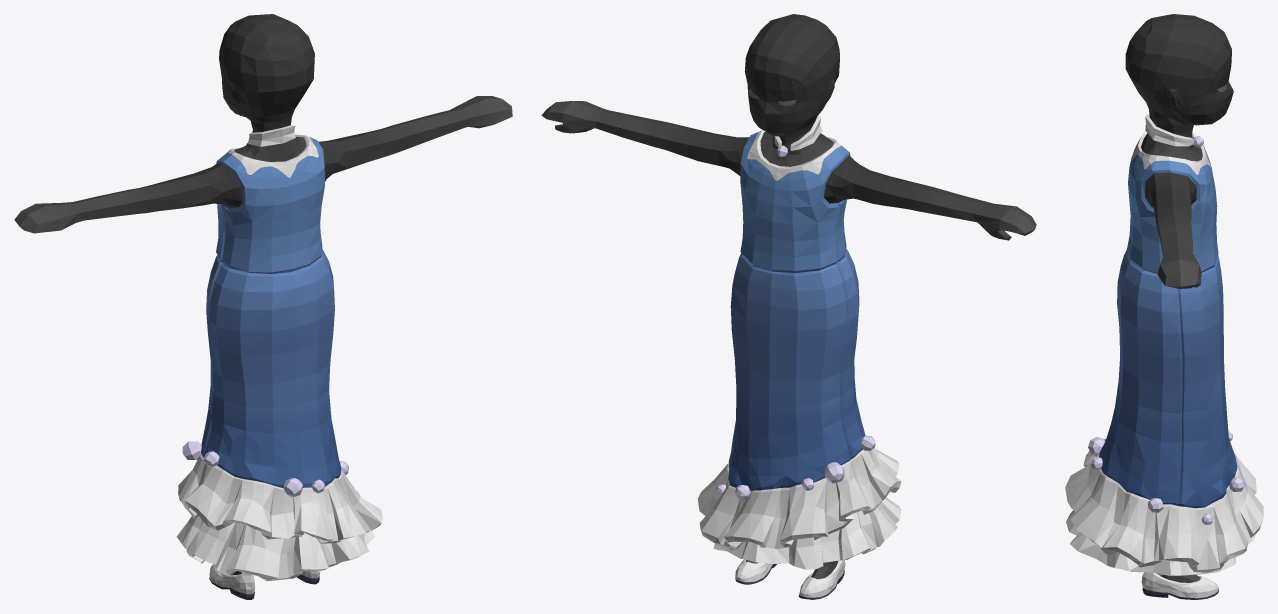
Rendered from CharSkyKid_Body_AP32Gown.glb.
The picture shows the model from 3 angles, left to right: view 1: azimuth 30°, elevation 25°; view 2: azimuth 150°, elevation 25°; view 3: azimuth 270°, elevation 25°; orthographic projection.
Parts seen in each view (by area): view 1: CharSkyKid_Body_AP32Gown; view 2: CharSkyKid_Body_AP32Gown; view 3: CharSkyKid_Body_AP32Gown.
Part boxes in pixels (left/top/right/bottom): CharSkyKid_Body_AP32Gown: left=14, top=14, right=512, bottom=599; CharSkyKid_Body_AP32Gown: left=541, top=14, right=1036, bottom=599; CharSkyKid_Body_AP32Gown: left=1065, top=14, right=1263, bottom=599.
Bounding box in the file's own units: 13.83 × 15.04 × 4.84.
Materials: 1 (1 with a texture image).
